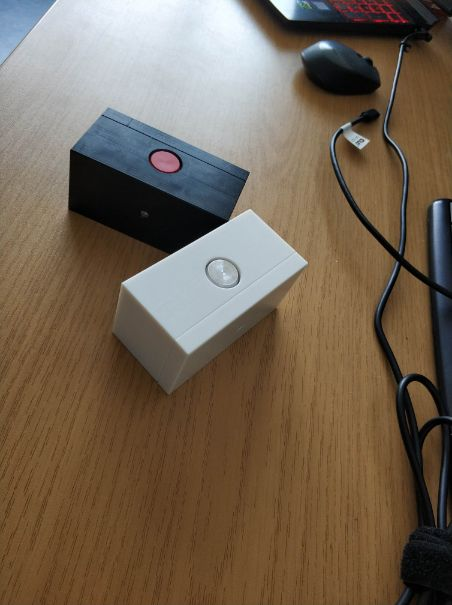black+black+red: (65, 105, 252, 258)
white+white+silver: (108, 209, 312, 399)
